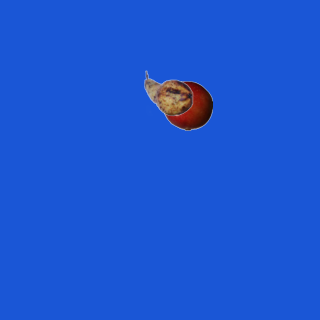Apple Braeburn: (162, 80, 212, 130)
Pear Abate: (143, 68, 193, 118)
